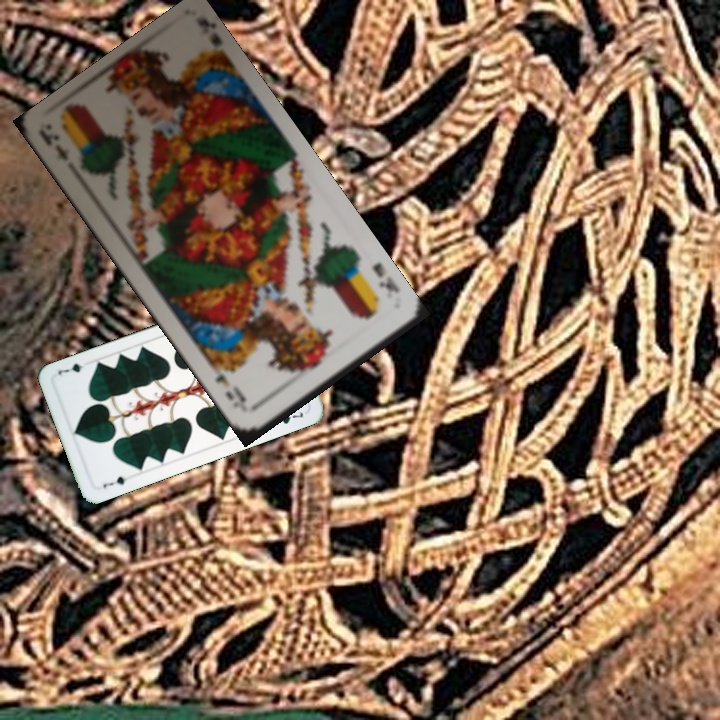EK: (368, 258, 402, 296), (37, 128, 71, 164)
G7: (99, 471, 133, 491)
